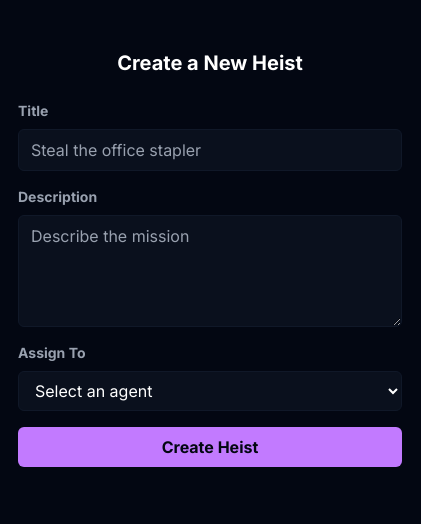
CreateHeistPage › shows validation errors and does not write when fields are empty
Expected: the field labelled "Title" is shown, [18, 129, 402, 171]
Click the button "Create Heist": (210, 447) [18, 427, 402, 467]
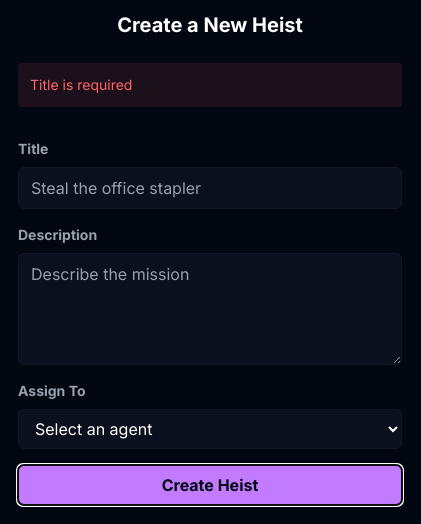
Now the text "Title is required" is shown, box [18, 63, 402, 107]
In the field labelled "Title": (210, 188) [18, 167, 402, 209], type "Steal the stapler"
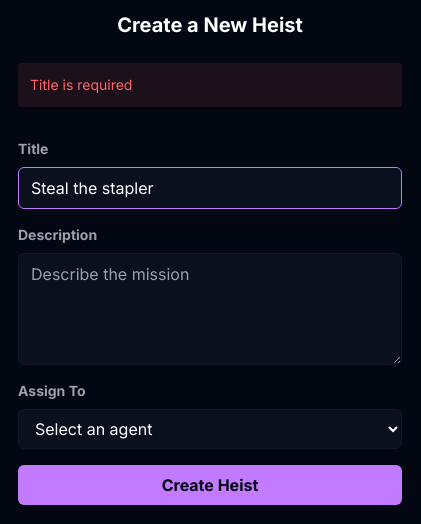
Click the button "Create Heist": (210, 485) [18, 465, 402, 505]
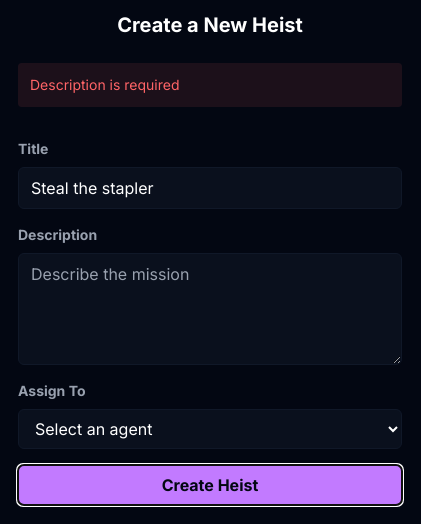
Now the text "Description is required" is shown, box [18, 63, 402, 107]
In the text box labelled "Description": (210, 309) [18, 253, 402, 365], type "Quietly."
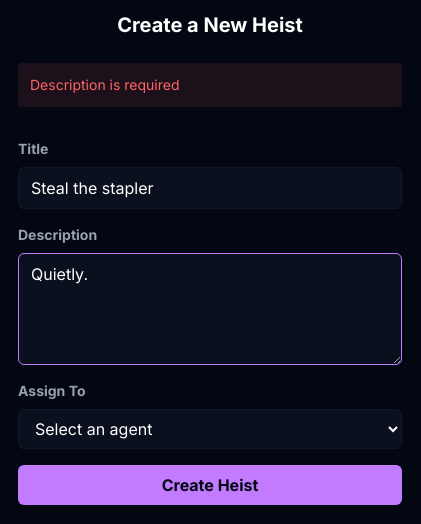
Click the button "Create Heist": (210, 485) [18, 465, 402, 505]
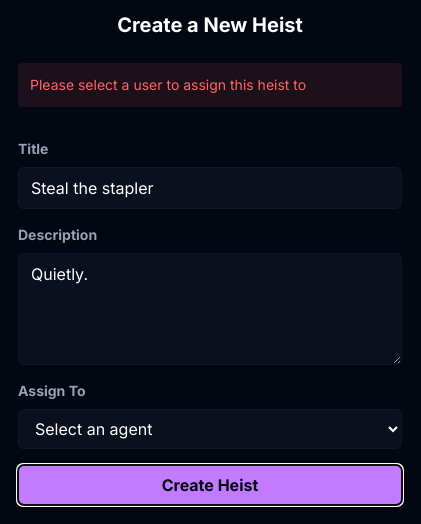
Now the text "Please select a user to assign this heist to" is shown, box [18, 63, 402, 107]
